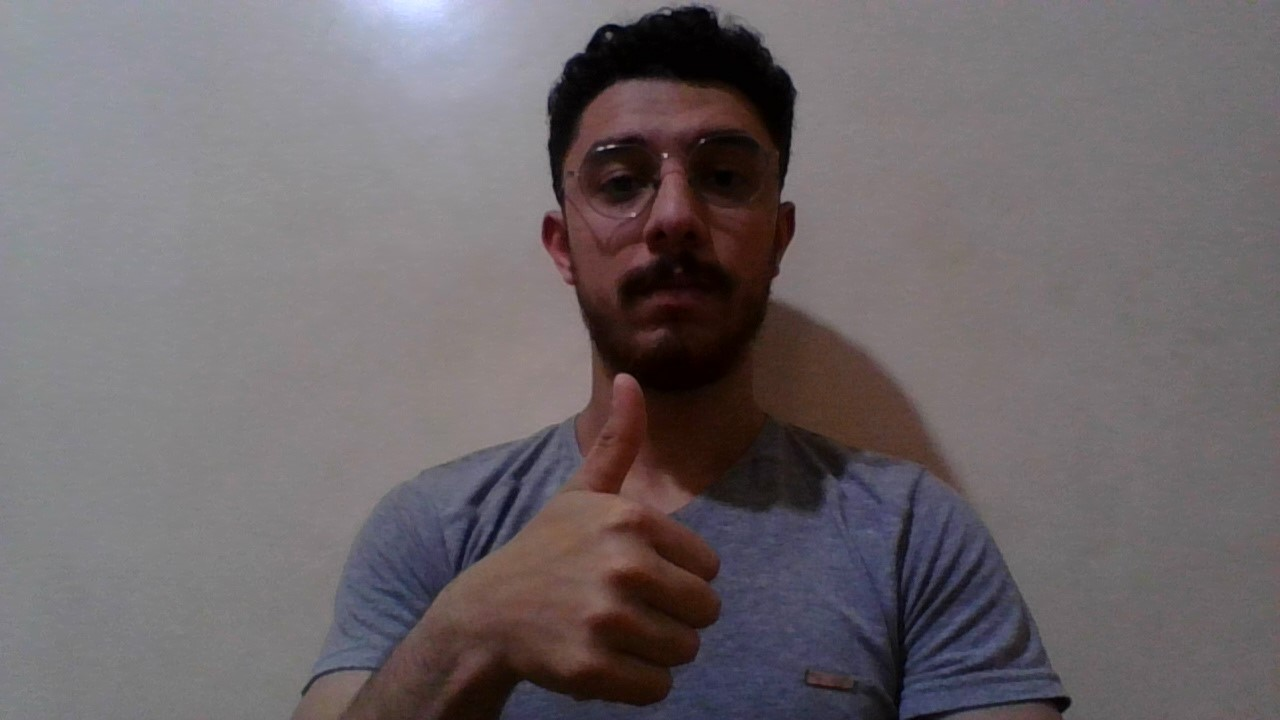Yes: (396, 355, 754, 720)
